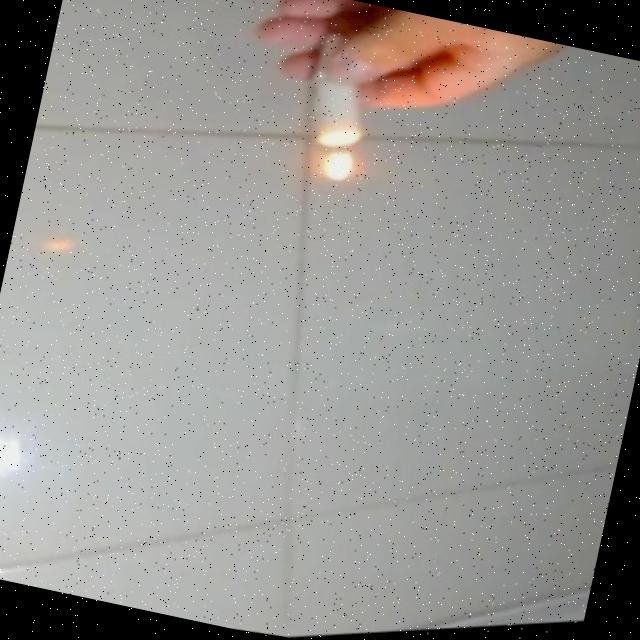fire: (304, 139, 364, 195)
